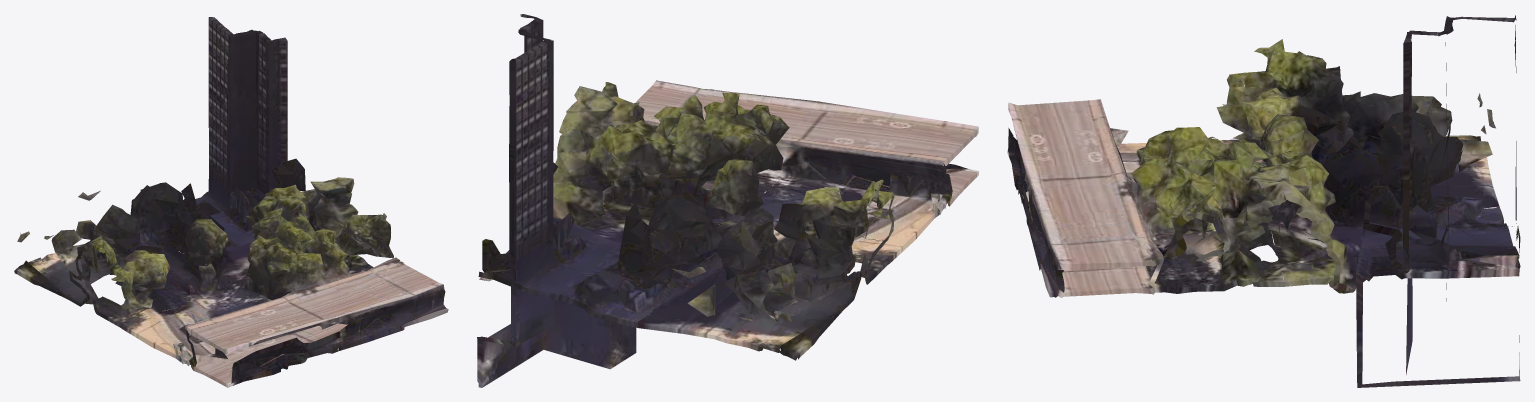
3 views of the same model, side by side, from view 1: azimuth 30°, elevation 25°; view 2: azimuth 150°, elevation 25°; view 3: azimuth 270°, elevation 25° (orthographic). The views are drawn at different scales.
Parts seen in each view (by area): view 1: Mesh_0; view 2: Mesh_0; view 3: Mesh_0.
Part boxes in pixels (x1,y1,x2,y2): Mesh_0: [14, 17, 448, 387]; Mesh_0: [477, 14, 978, 387]; Mesh_0: [1007, 15, 1520, 387].
Size of the model in its own units: 66.53 by 62.11 by 82.61.
Materials: 2 (2 with a texture image).
